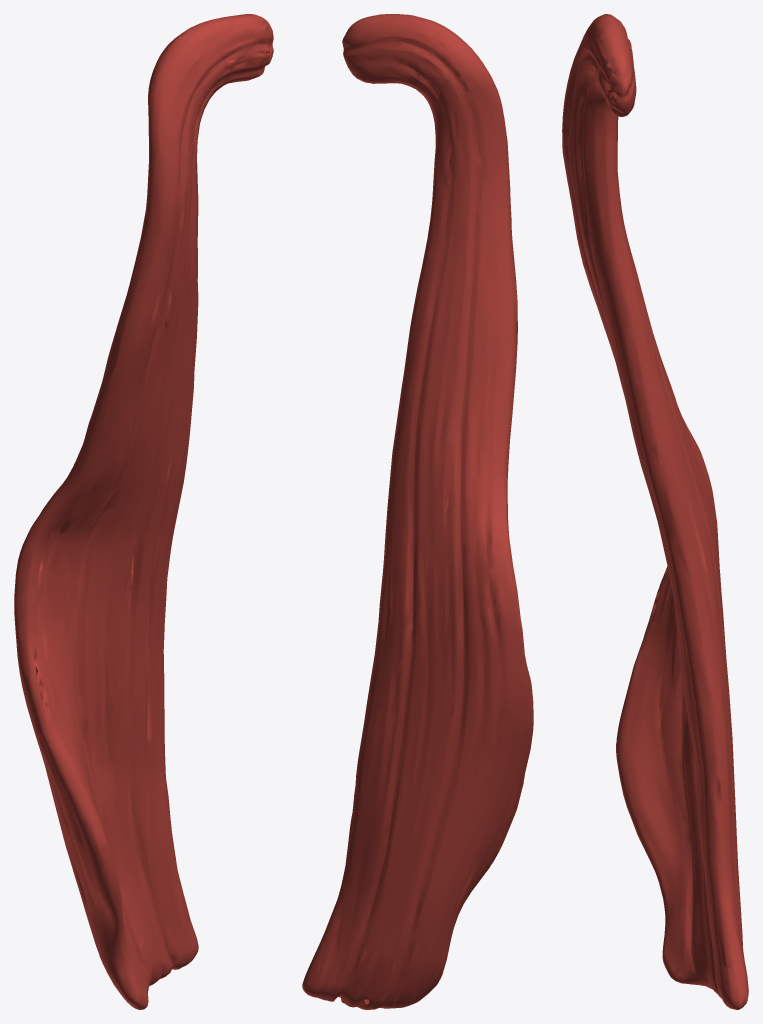
The model's file is musculos-palatopharyngeus-muscle-r.glb.
3 renders of one model, left to right at view 1: azimuth 30°, elevation 25°; view 2: azimuth 150°, elevation 25°; view 3: azimuth 270°, elevation 25°, orthographic. The views are drawn at different scales.
Parts seen in each view (by area): view 1: Palatopharyngeus muscle.r; view 2: Palatopharyngeus muscle.r; view 3: Palatopharyngeus muscle.r.
Boxes of the visible parts, x1,y1,x2,y2 form: Palatopharyngeus muscle.r: (14,14,273,1009); Palatopharyngeus muscle.r: (302,14,533,1009); Palatopharyngeus muscle.r: (562,14,748,1009).
Size of the model in its own units: 0.0205 by 0.088 by 0.0153.
